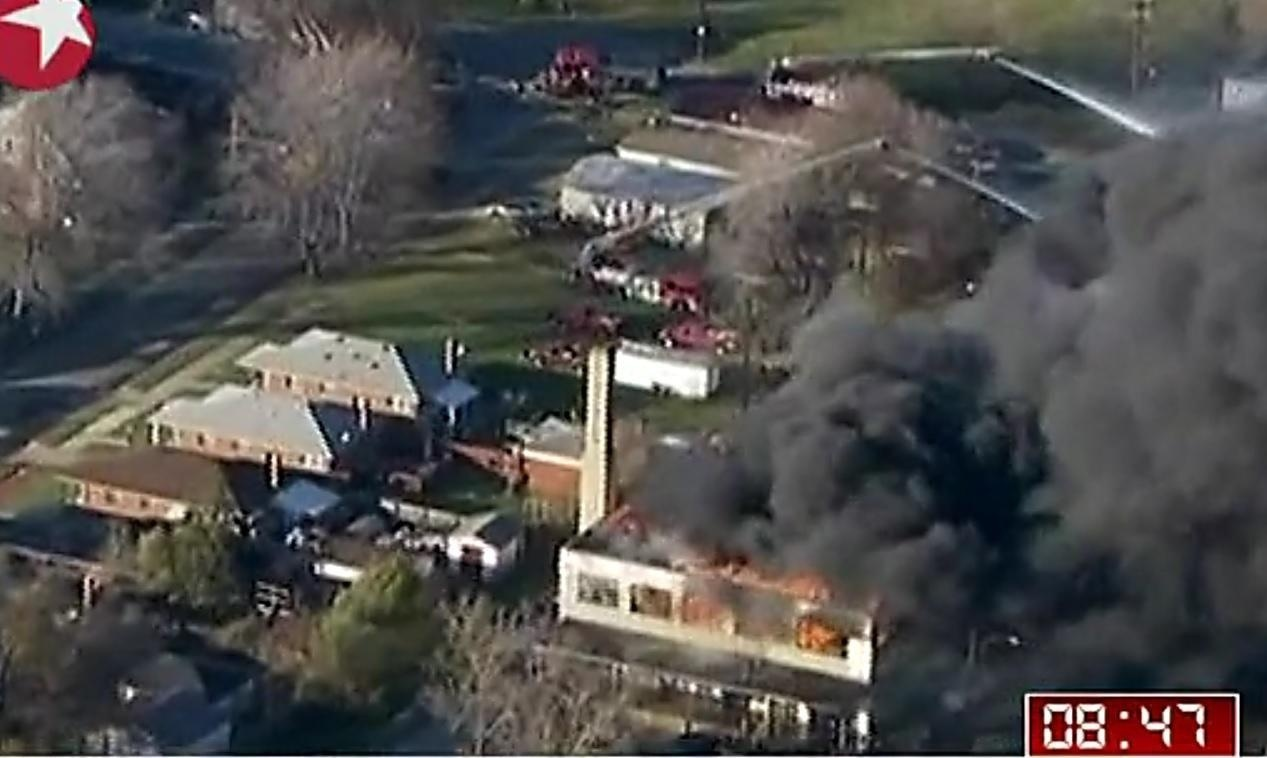fire: (692, 550, 840, 650)
